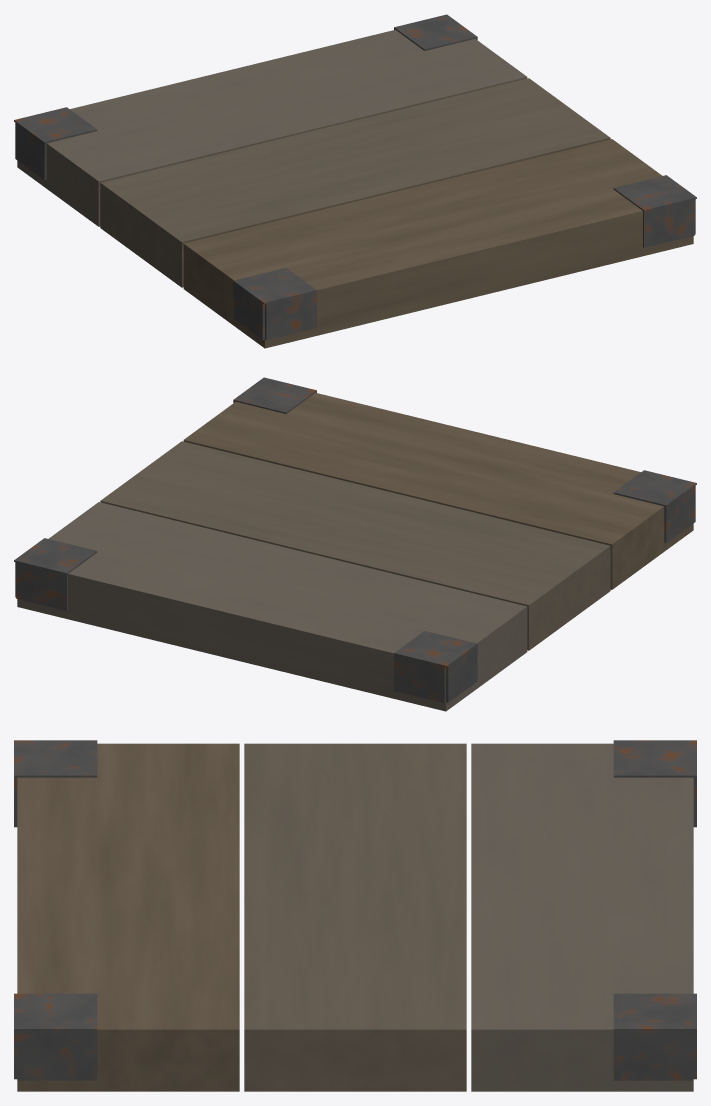
The picture shows the model from 3 angles, top to bottom: view 1: azimuth 30°, elevation 25°; view 2: azimuth 150°, elevation 25°; view 3: azimuth 270°, elevation 25°; orthographic projection. The views are drawn at different scales.
Visible parts, largest first — view 1: 받침_조합; view 2: 받침_조합; view 3: 받침_조합.
Boxes of the visible parts, bbox=[...] form: 받침_조합: bbox=[14, 14, 696, 348]; 받침_조합: bbox=[14, 377, 696, 711]; 받침_조합: bbox=[14, 740, 696, 1091].
Bounding box in the file's own units: 598 × 62 × 598.
Materials: 2 (2 with a texture image).
